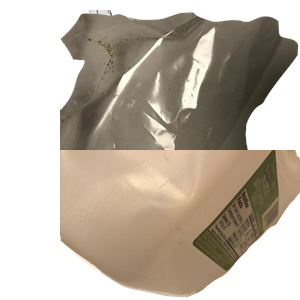glass: (86, 120, 277, 300)
paper: (85, 10, 224, 190)
plastic: (60, 150, 300, 300)
trash: (60, 10, 300, 190)
